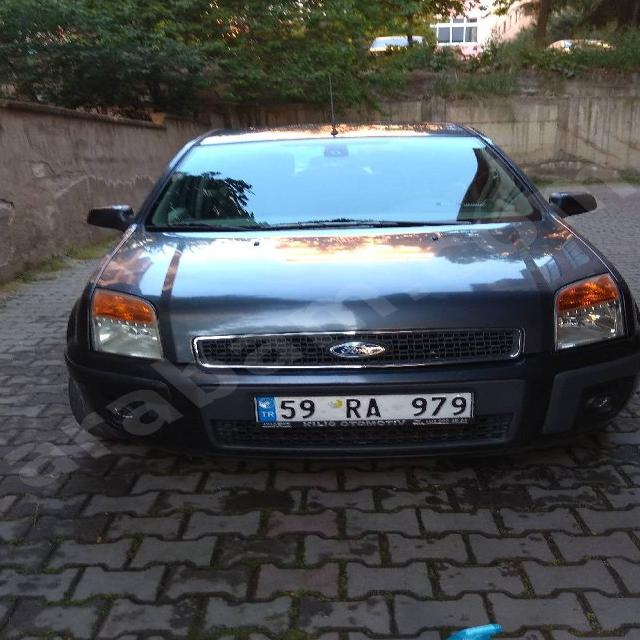license_plate: (255, 391, 472, 423)
